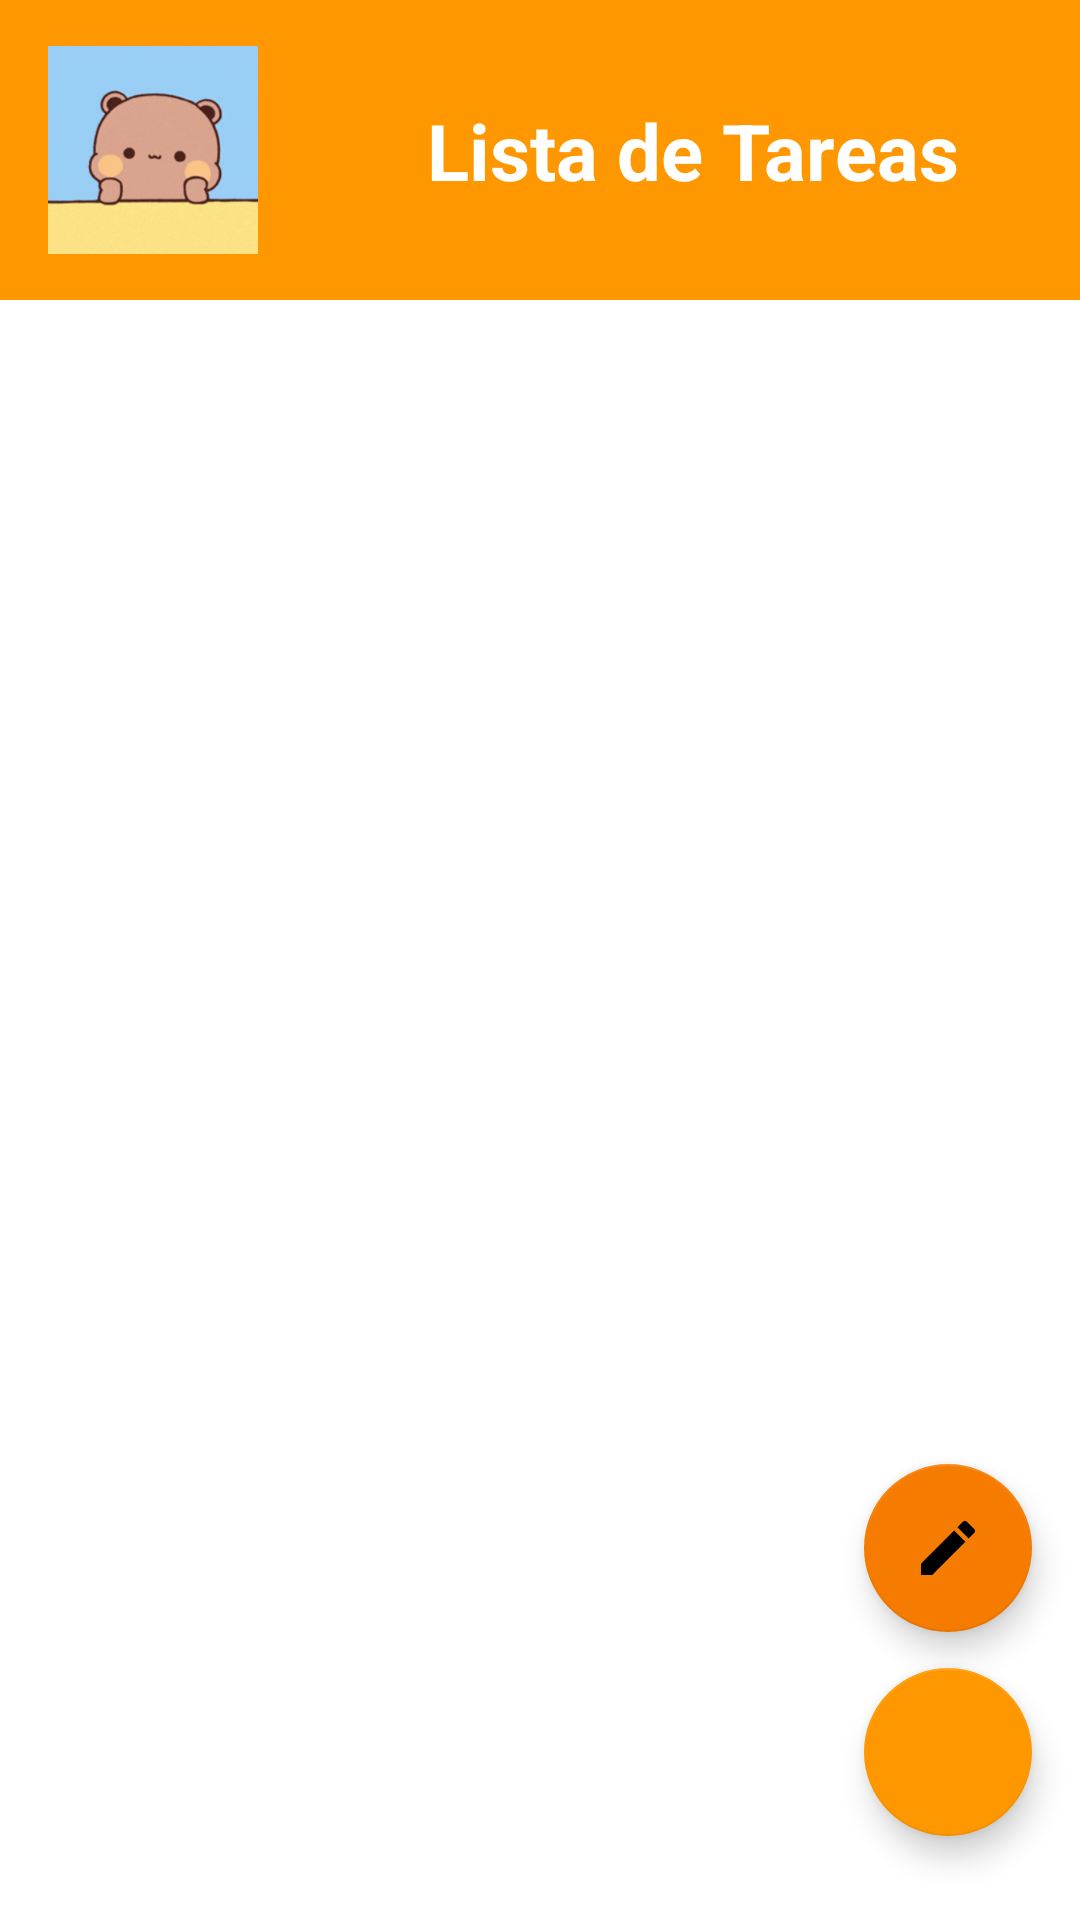

Named icons in this screenshot (1080 × 1920) and their centers, point (x, y):
Editar tarea: point (948, 1548)
